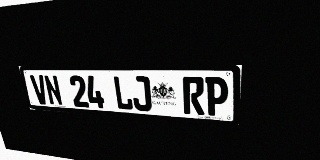2: (68, 75, 89, 107)
4: (84, 75, 105, 108)
J: (130, 76, 152, 112)
L: (112, 76, 134, 110)
N: (43, 75, 63, 106)
P: (205, 77, 228, 117)
R: (182, 77, 204, 115)
V: (29, 75, 49, 105)
